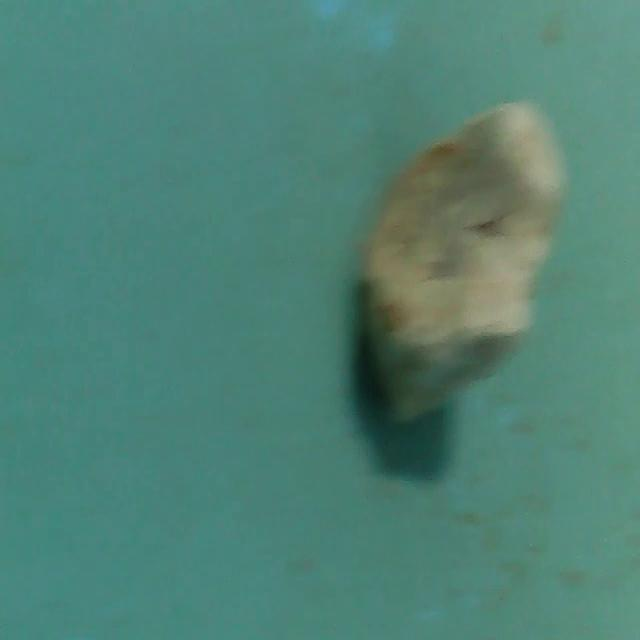rock: (349, 89, 575, 438)
